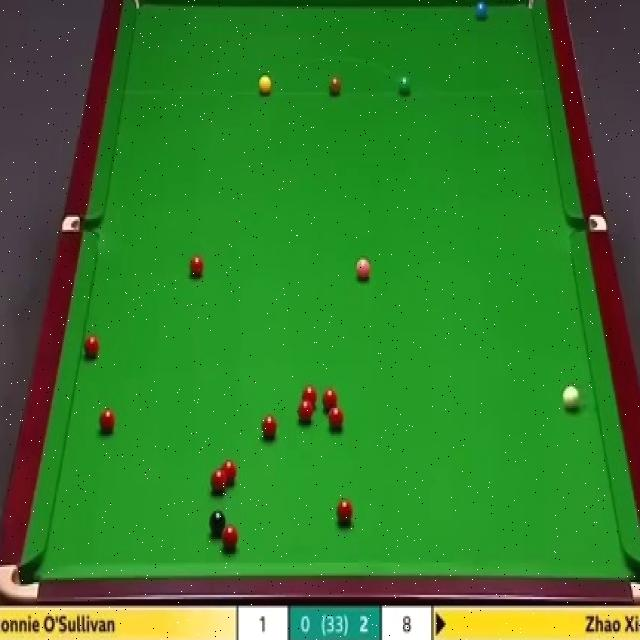black-ball: (208, 509, 227, 537)
blue-ball: (472, 0, 489, 24)
brown-ball: (328, 76, 343, 98)
green-ball: (397, 75, 412, 98)
pink-ball: (354, 253, 374, 283)
red-ball: (96, 405, 117, 437), (219, 526, 239, 555), (208, 469, 228, 496), (336, 499, 354, 529), (82, 335, 100, 362), (296, 400, 314, 426), (188, 254, 206, 278), (262, 417, 279, 442), (300, 385, 318, 408), (328, 406, 344, 430), (222, 459, 238, 482), (322, 389, 338, 410)
white-ball: (563, 384, 580, 412)
yellow-ball: (258, 74, 273, 97)
